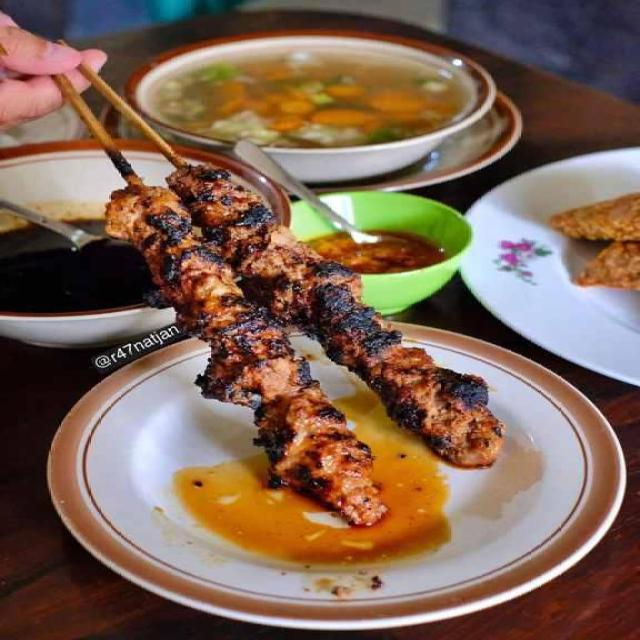Sate: (20, 70, 534, 530)
